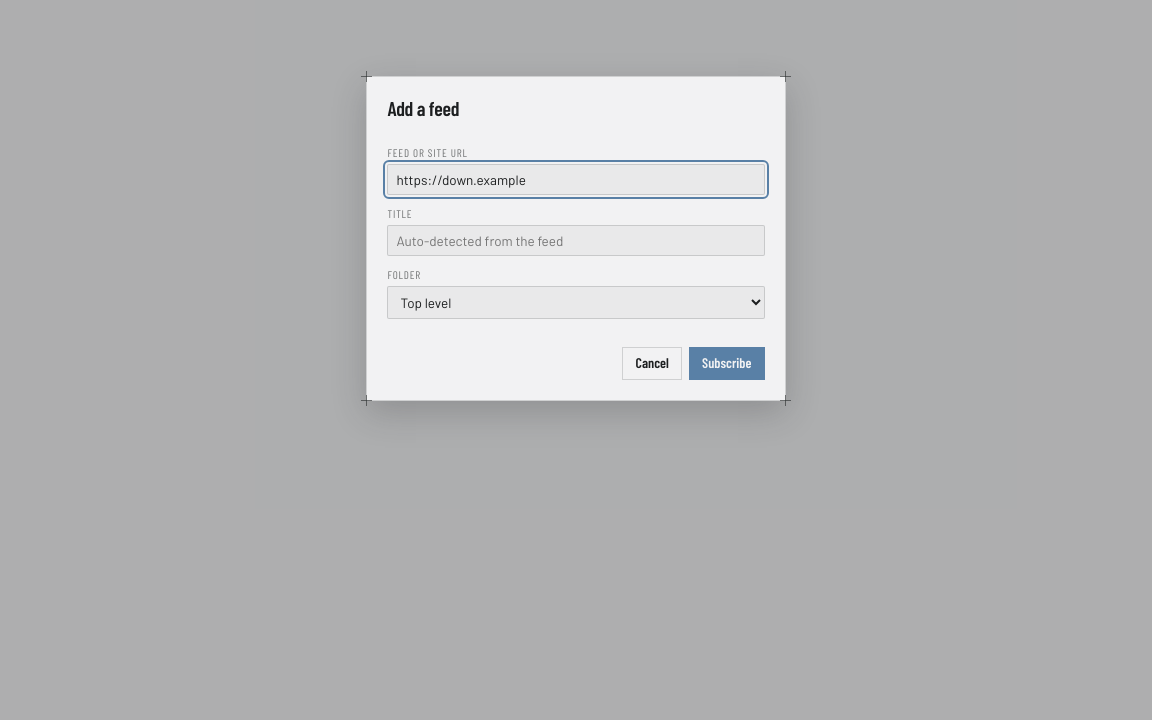
AddFeedDialog — smart discovery › offers add-as-is when no feeds are found
The image size is (1152, 720).
Replace the text in the field labelled "Feed or site URL" with "https://empty.example" at [576, 179], box [387,164,765,195]
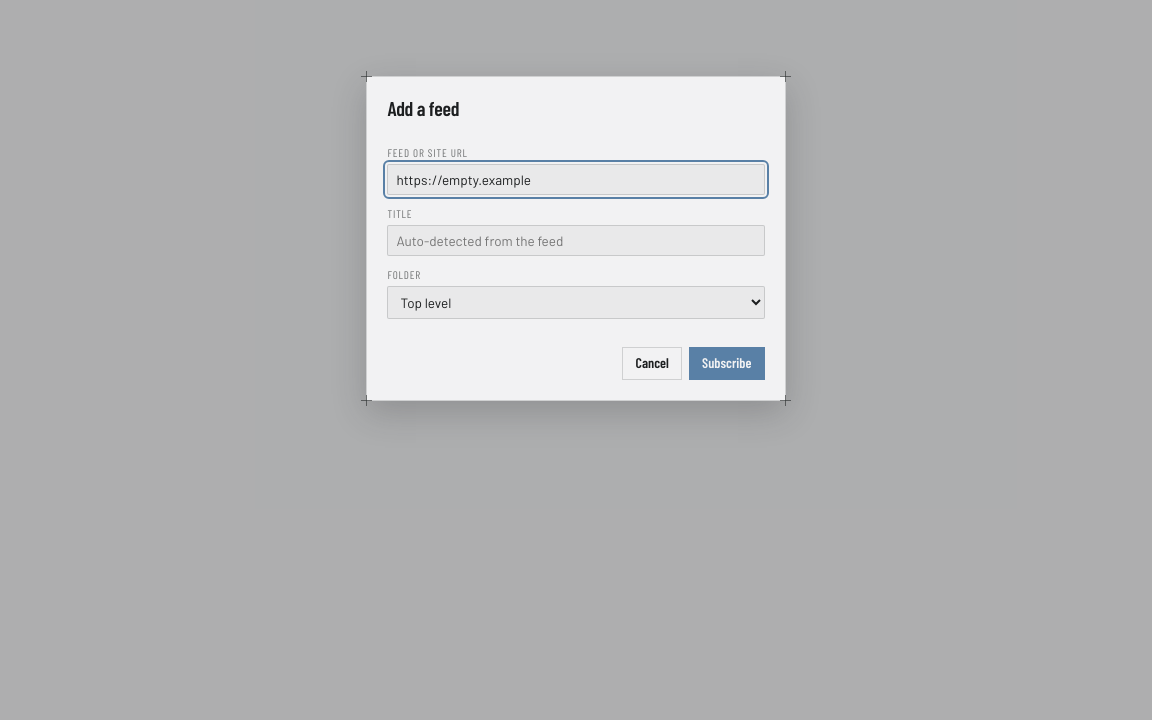
Click the button "Subscribe" at [727, 364], box [689,347,765,380]
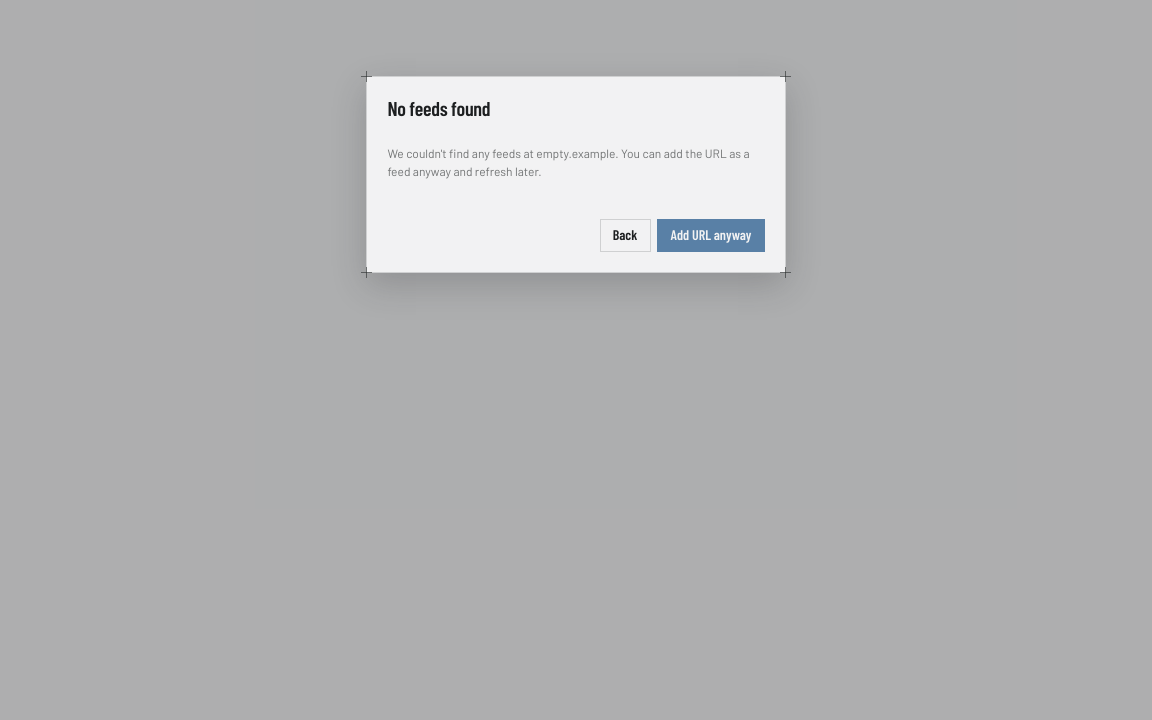
Expected: the heading "No feeds found" is shown, [387,96,490,120]
Expected: the button "Add URL anyway" is shown, [657,219,765,252]
